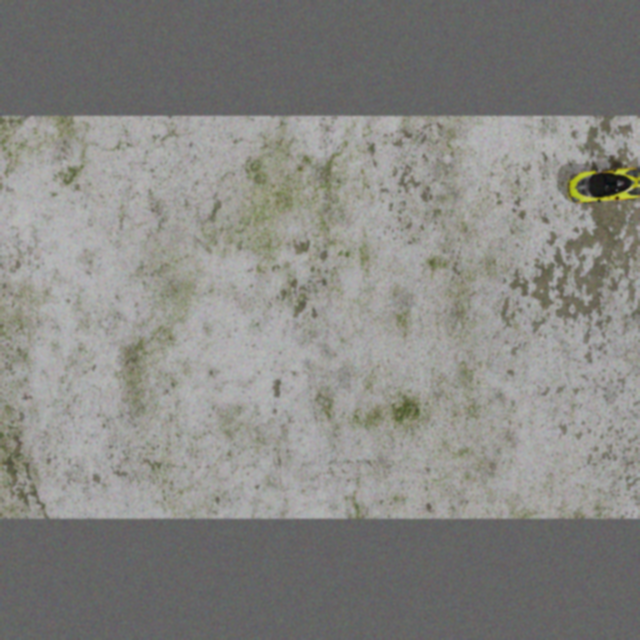car: (565, 163, 640, 207)
